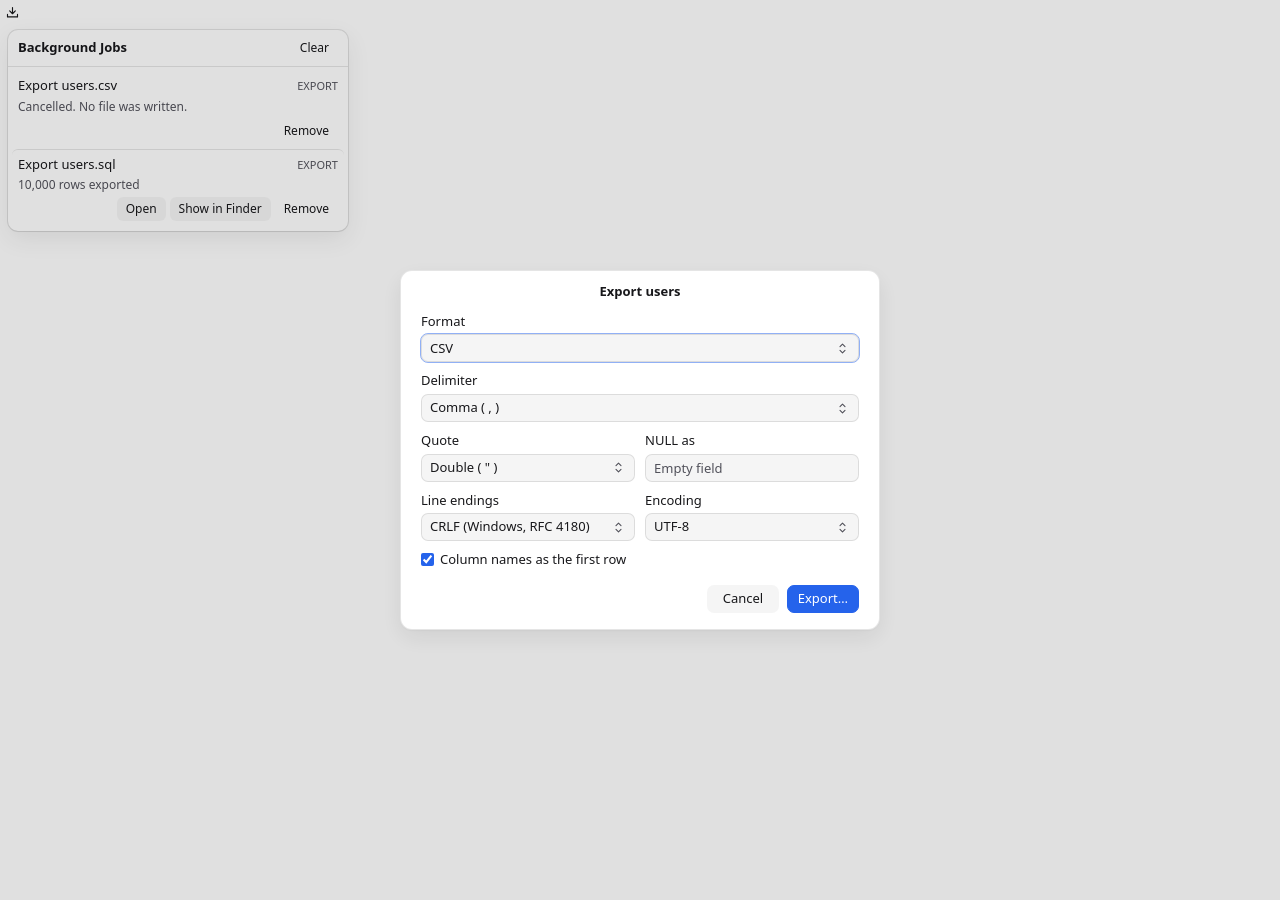
it: stays open when the save panel is dismissed and shows why an export could not start
This screenshot has width=1280, height=900.
Select "JSON" in the dropdown labelled "Format" at (640, 348), box left=422, top=336, right=858, bottom=362
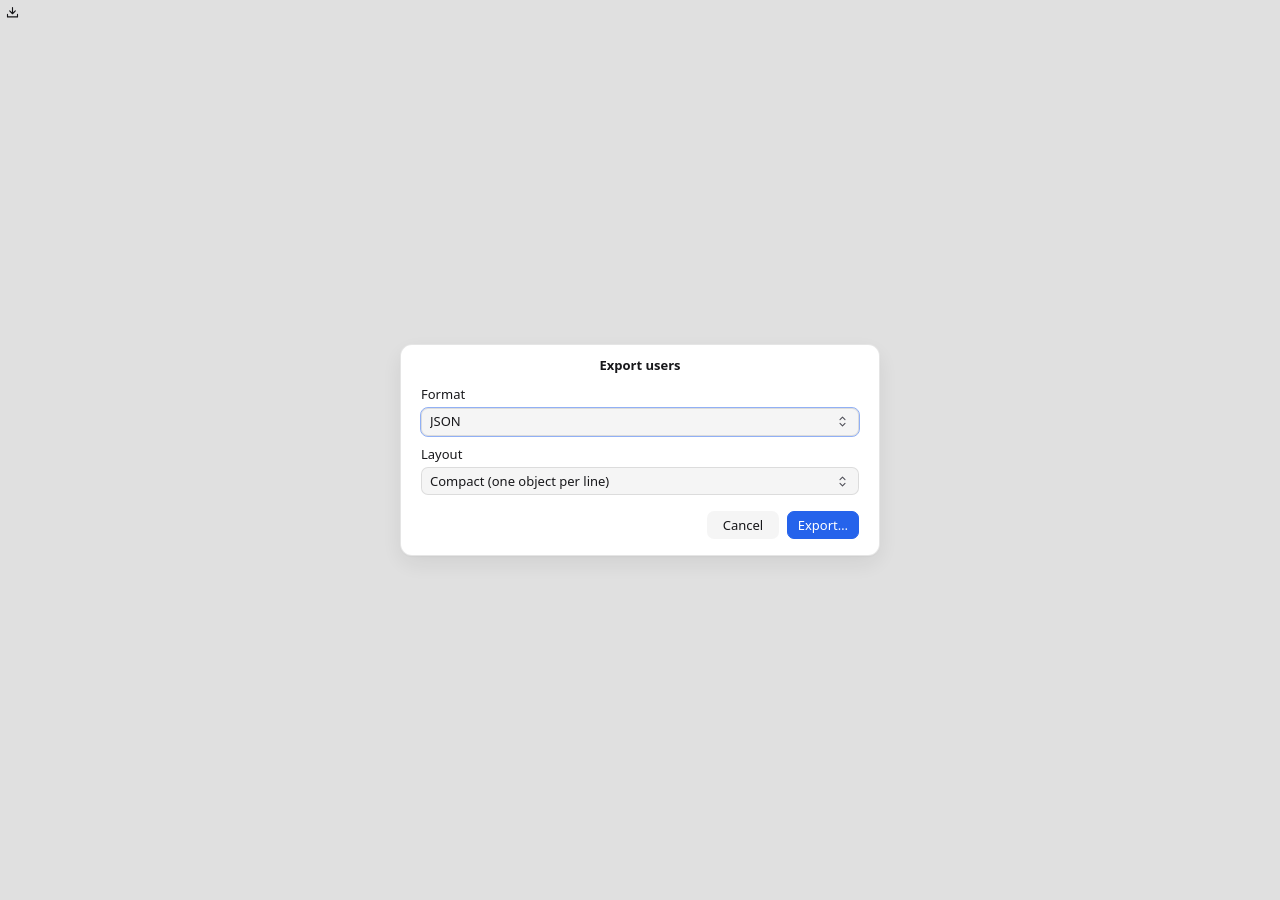
Select "Pretty (indented)" in the dropdown labelled "Layout" at (640, 481), box left=422, top=468, right=858, bottom=494
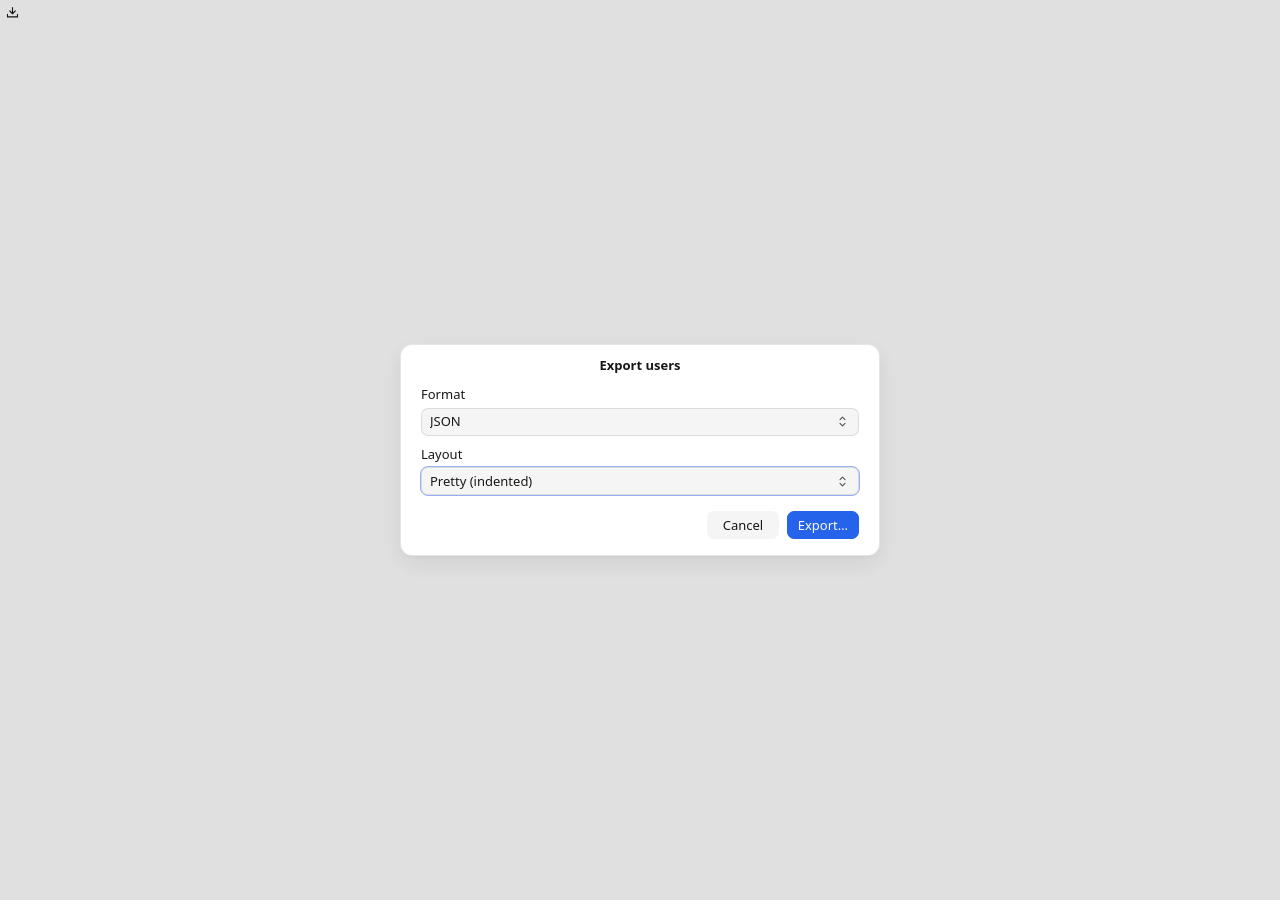
Click the button "Export…" at (823, 525), box left=787, top=511, right=859, bottom=539
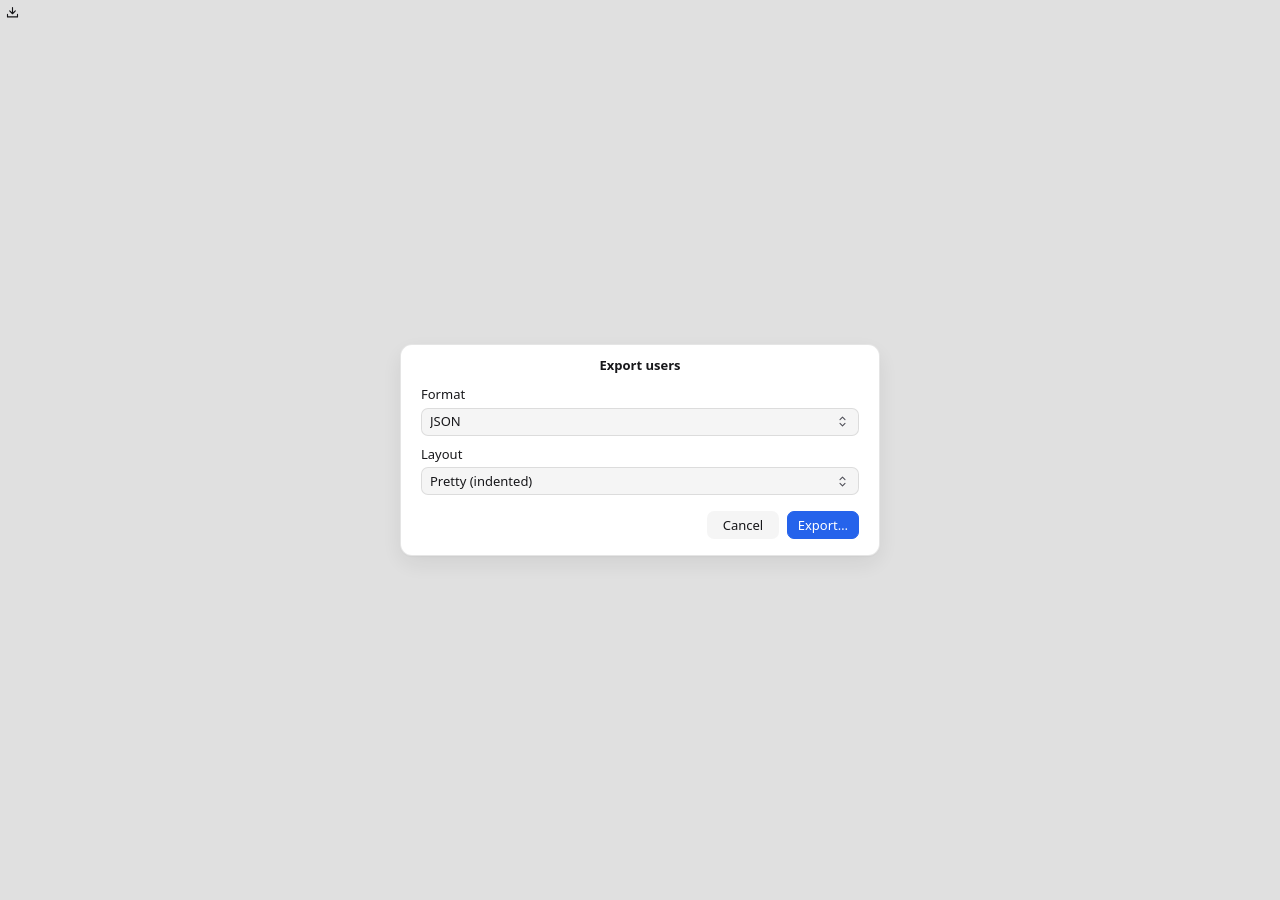
Click the button "Export…" at (823, 525), box left=787, top=511, right=859, bottom=539
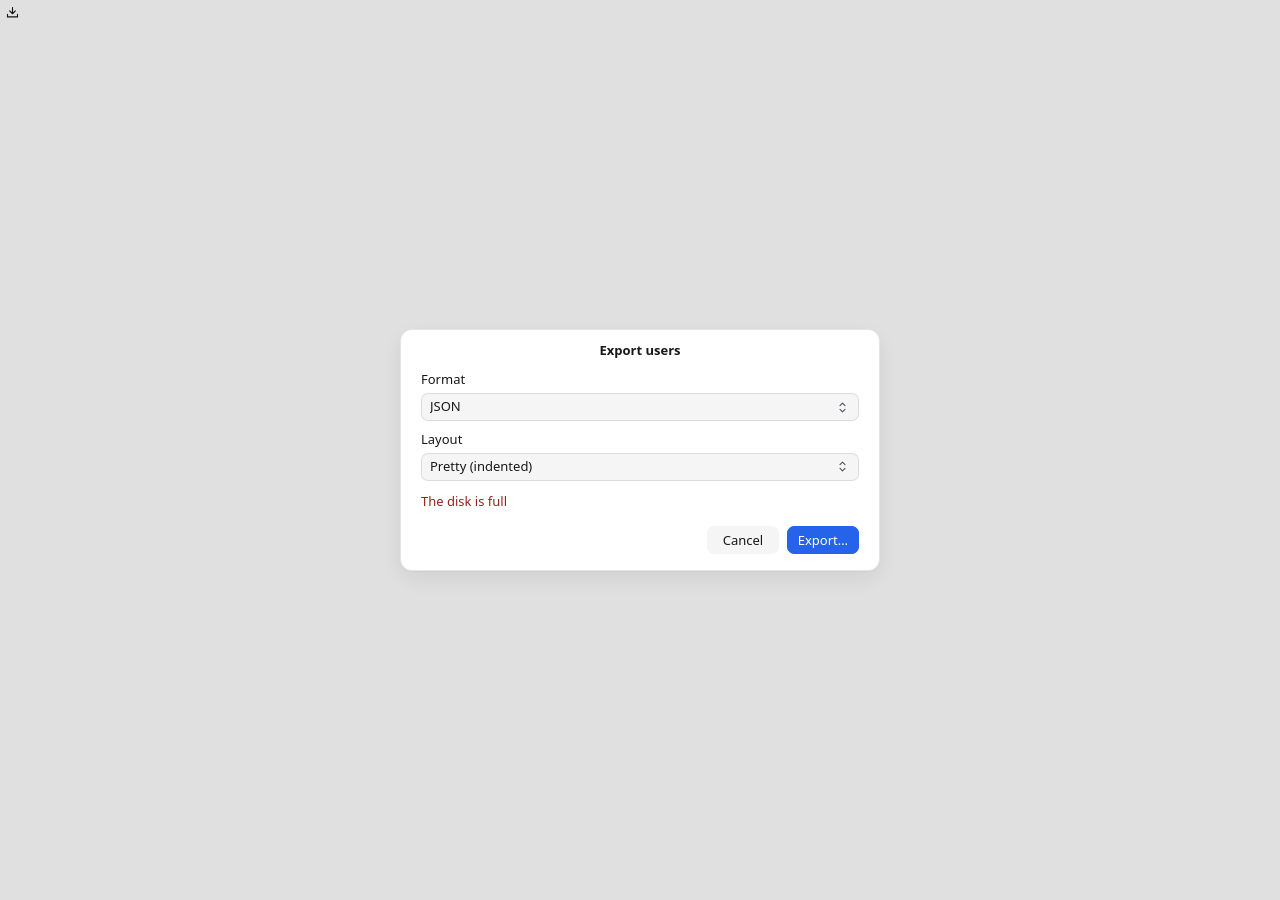
Check: the message reads "The disk is full", box left=421, top=492, right=507, bottom=510
